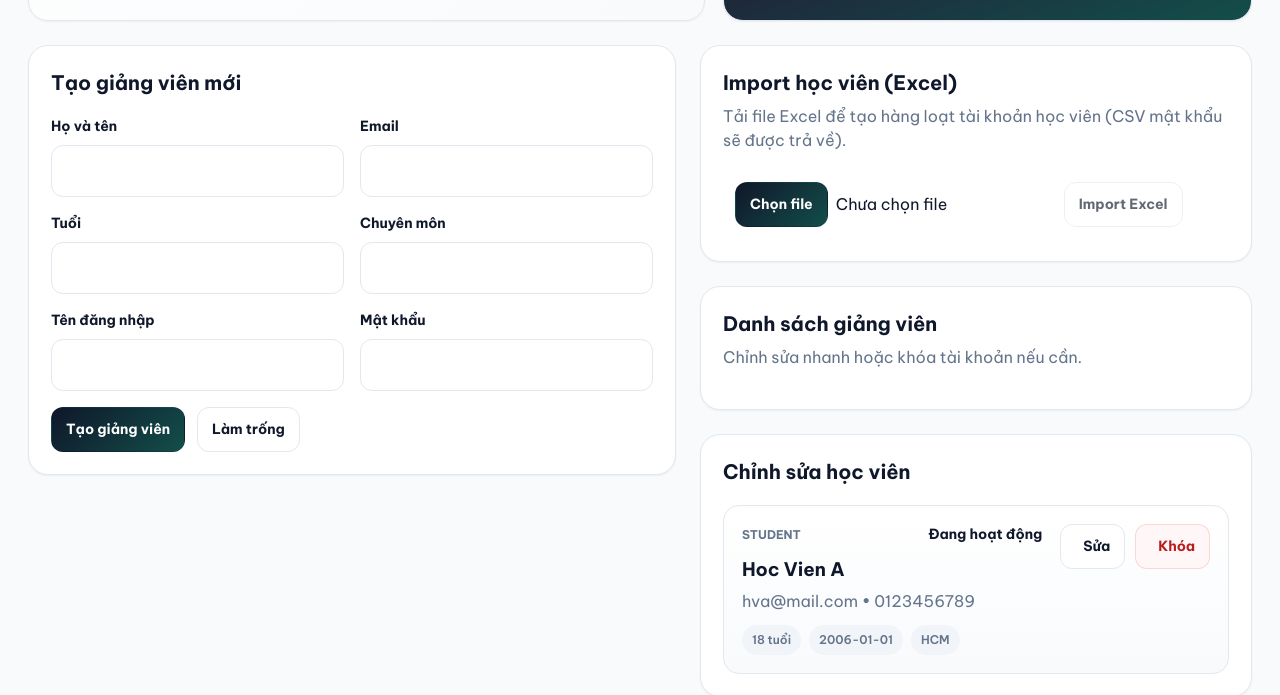
Scenario: AdminUsersPage › hien thi loi khi cap nhat hoc vien that bai
(page scrolled)
Click the button "Sửa" at (1093, 546), box top-left (1060, 524), bottom-right (1125, 569)
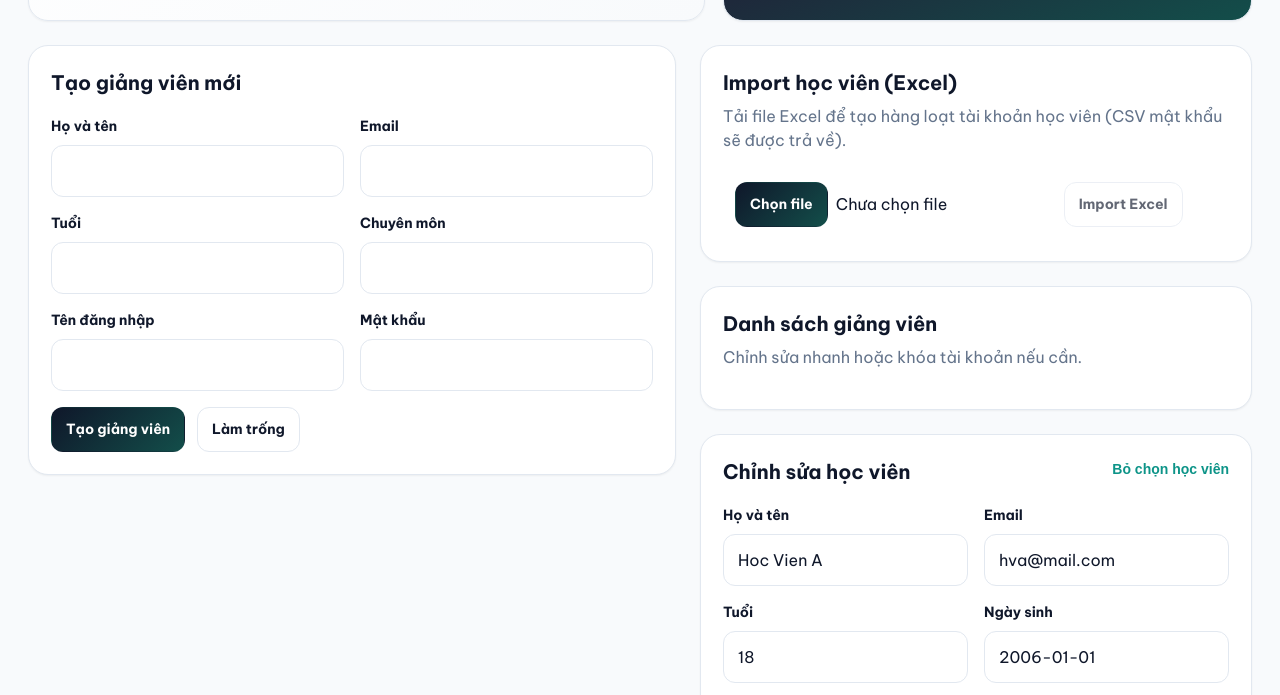
Replace the text in the field labelled "Họ và tên" below "Chỉnh sửa học viên" with "Hoc Vien Error" at (846, 560), box top-left (723, 534), bottom-right (968, 586)
(page scrolled)
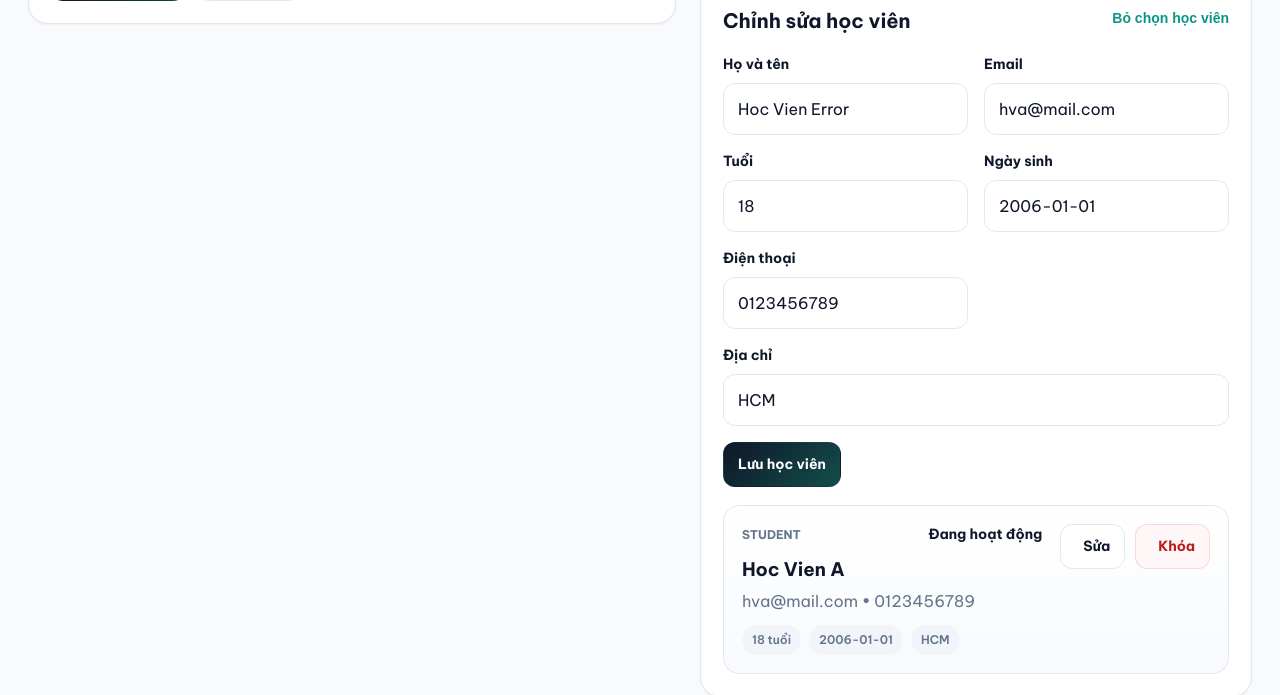
Click the button "Lưu học viên" at (782, 464), box top-left (723, 442), bottom-right (841, 487)
(page scrolled)
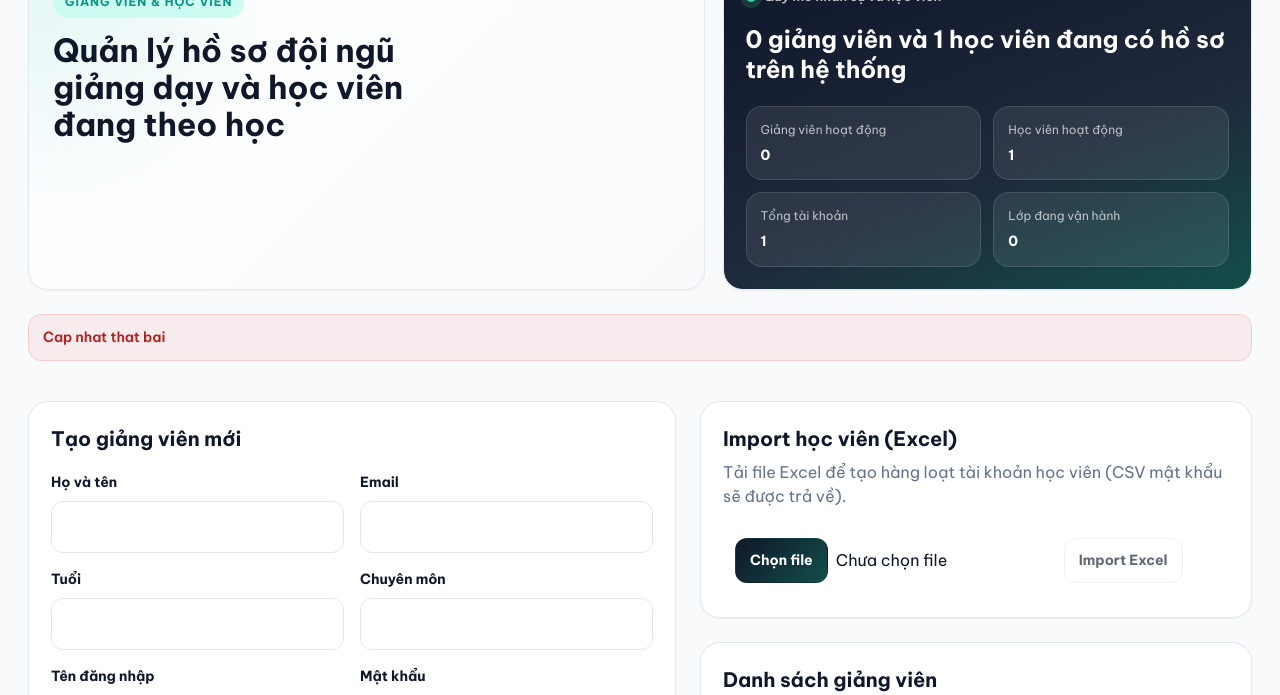
expect the text "Cap nhat that bai" is shown: met, box top-left (28, 314), bottom-right (1252, 361)
